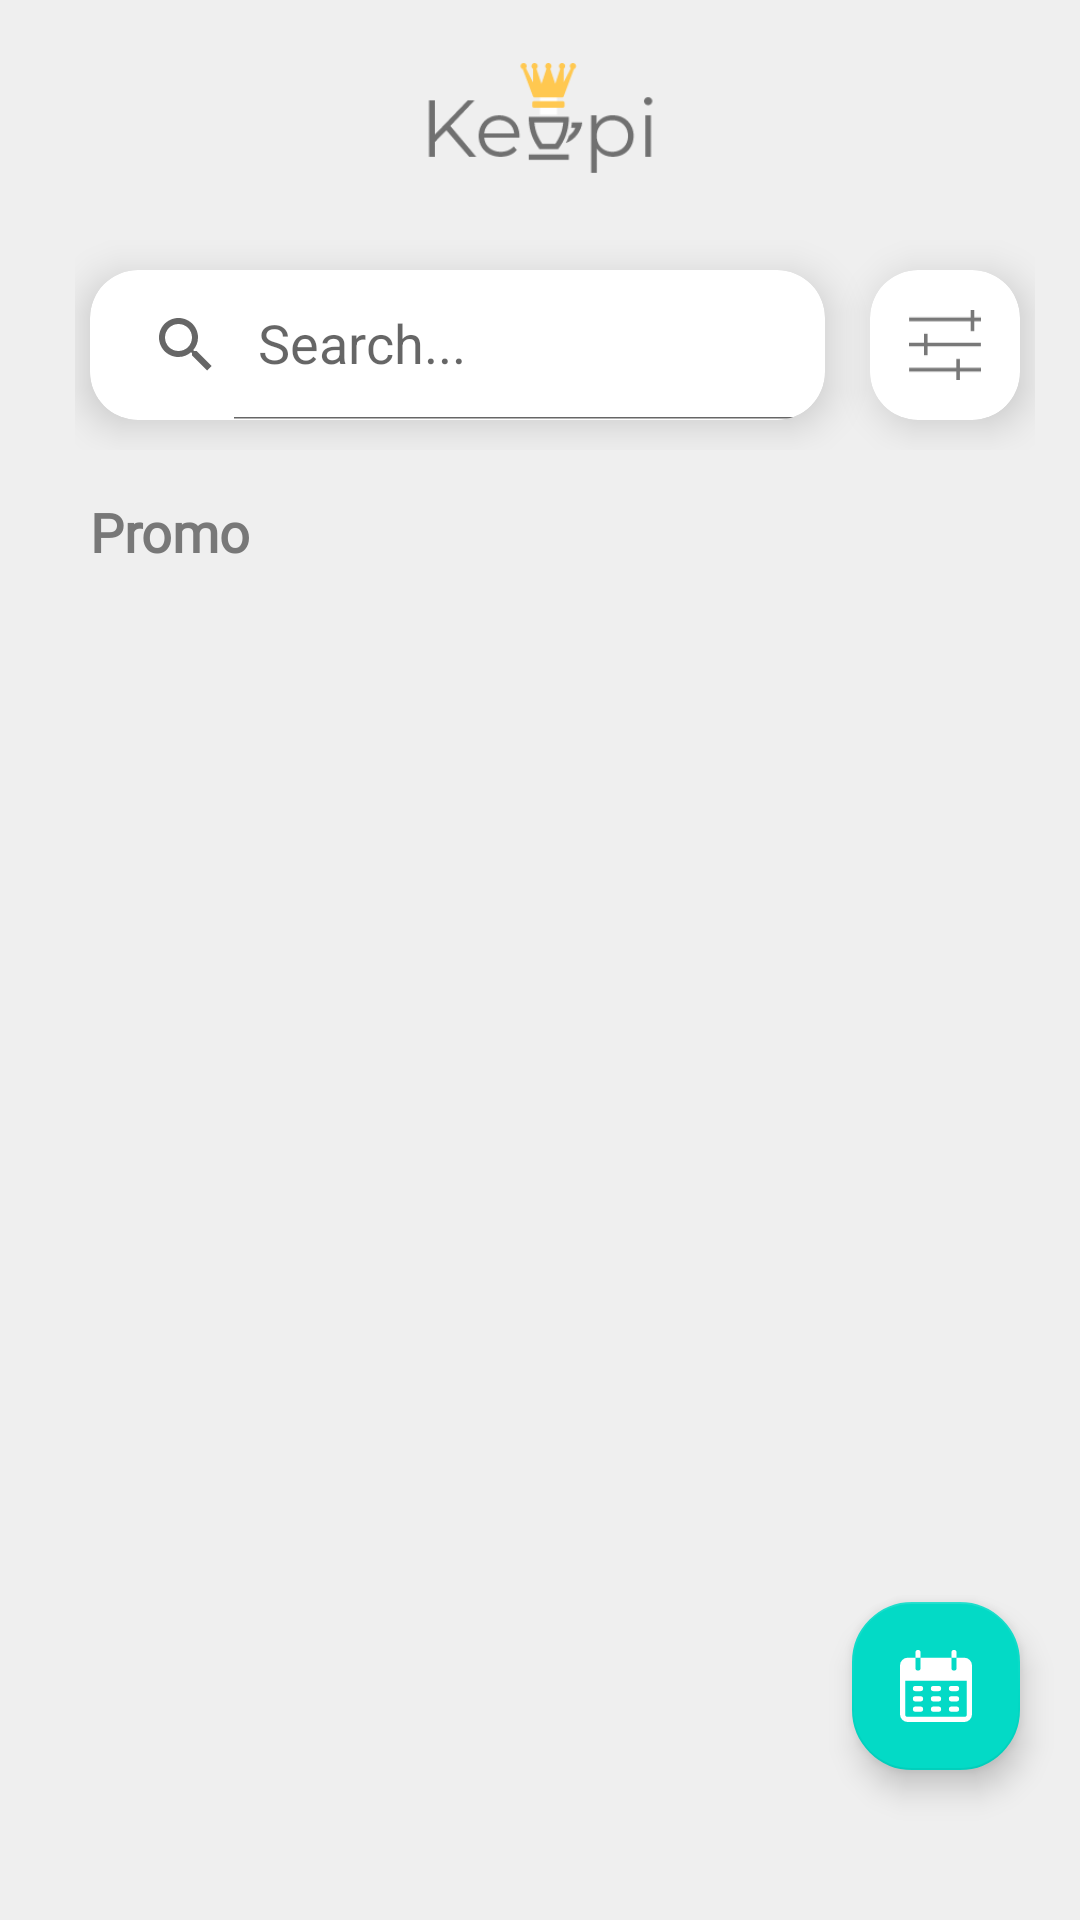

Point at icon controls on the screen. Image size 1080×1920, points as [x,y].
Calendar: [936,1686]
filter: [945,345]
